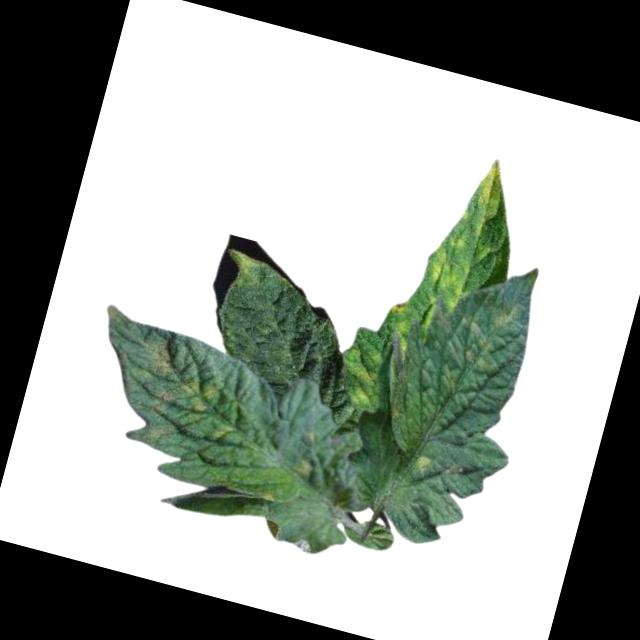Leaf_Mold: (170, 373, 252, 446), (421, 226, 482, 306), (471, 155, 514, 224), (222, 247, 271, 281), (404, 447, 432, 476), (293, 451, 317, 481), (388, 293, 413, 317)
